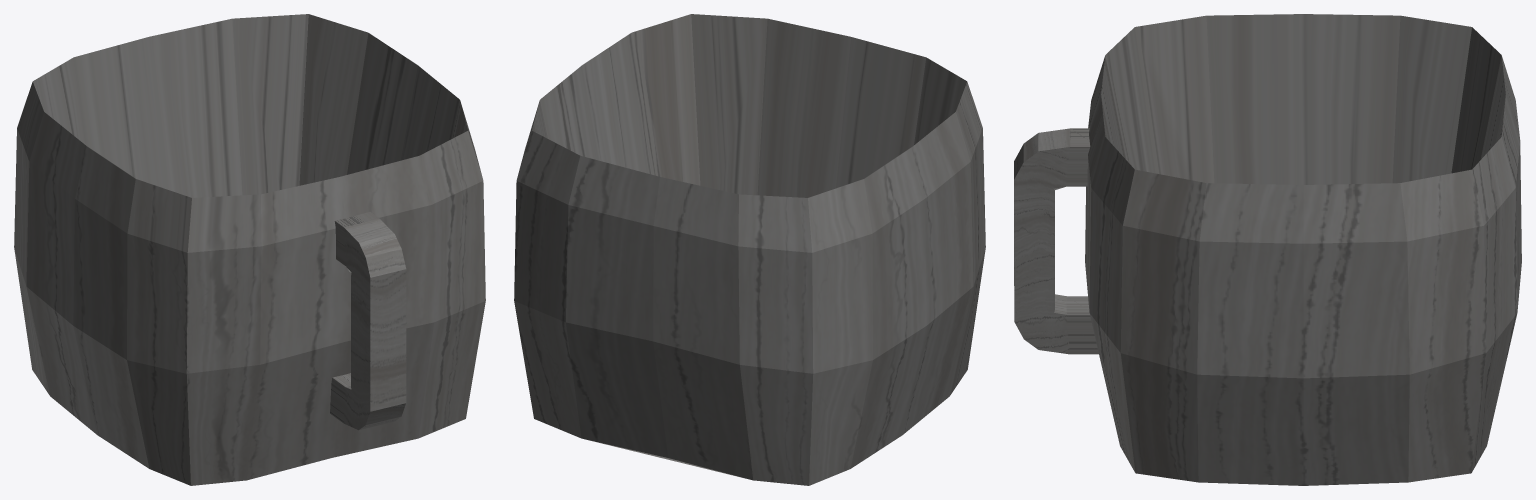
Rendered from Cup.fbx.
The picture shows the model from 3 angles, left to right: view 1: azimuth 30°, elevation 25°; view 2: azimuth 150°, elevation 25°; view 3: azimuth 270°, elevation 25°; orthographic projection. The views are drawn at different scales.
Visible parts, largest first — view 1: Cube; view 2: Cube; view 3: Cube.
Boxes of the visible parts, x1,y1,x2,y2 form: Cube: [14, 14, 485, 485]; Cube: [514, 14, 985, 485]; Cube: [1014, 14, 1521, 485].
Bounding box in the file's own units: 130 × 102 × 151.
